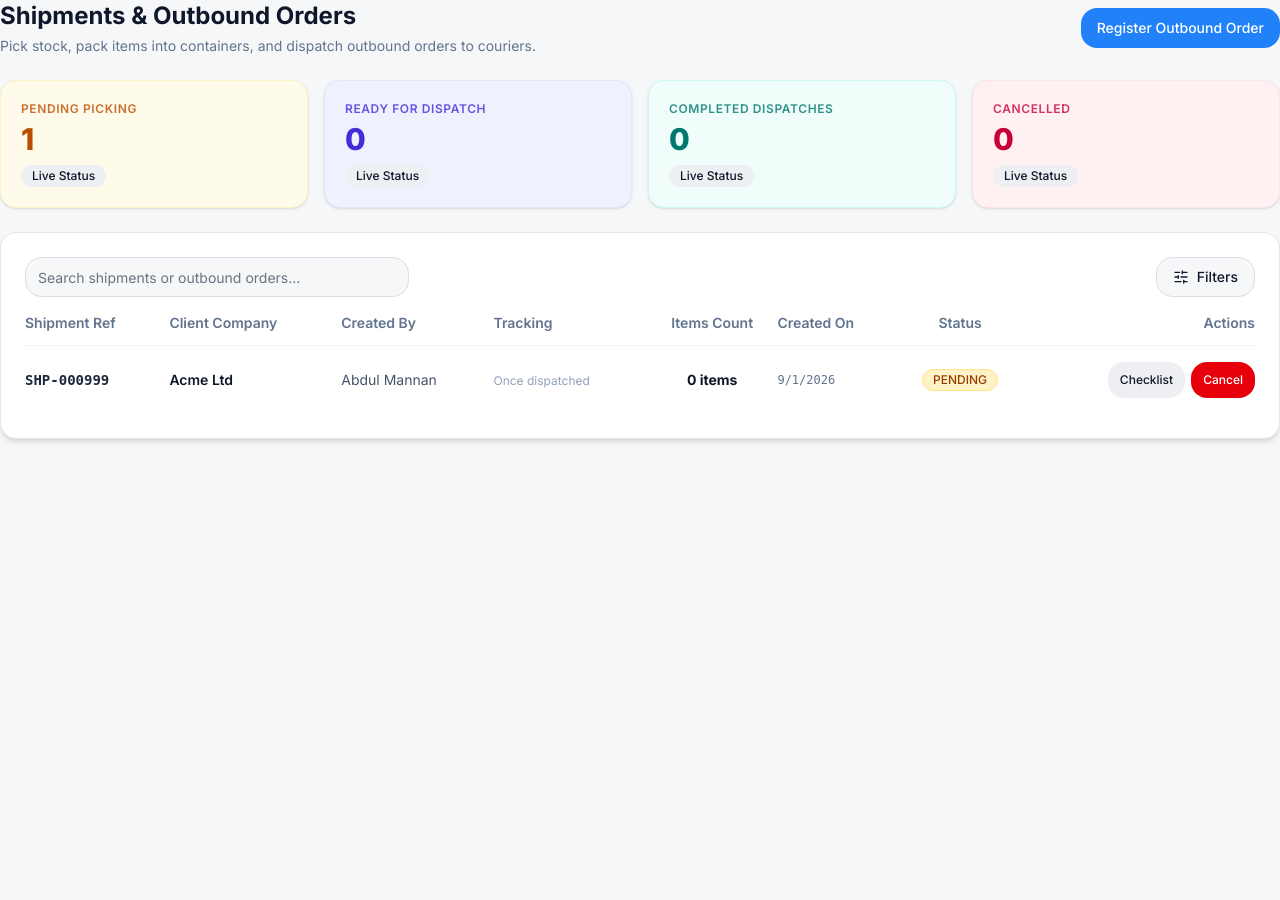
Test: the shipments table › names the label in the cancel confirmation
Click the button "Cancel".
click(1223, 380)  # box [1191,362,1255,398]
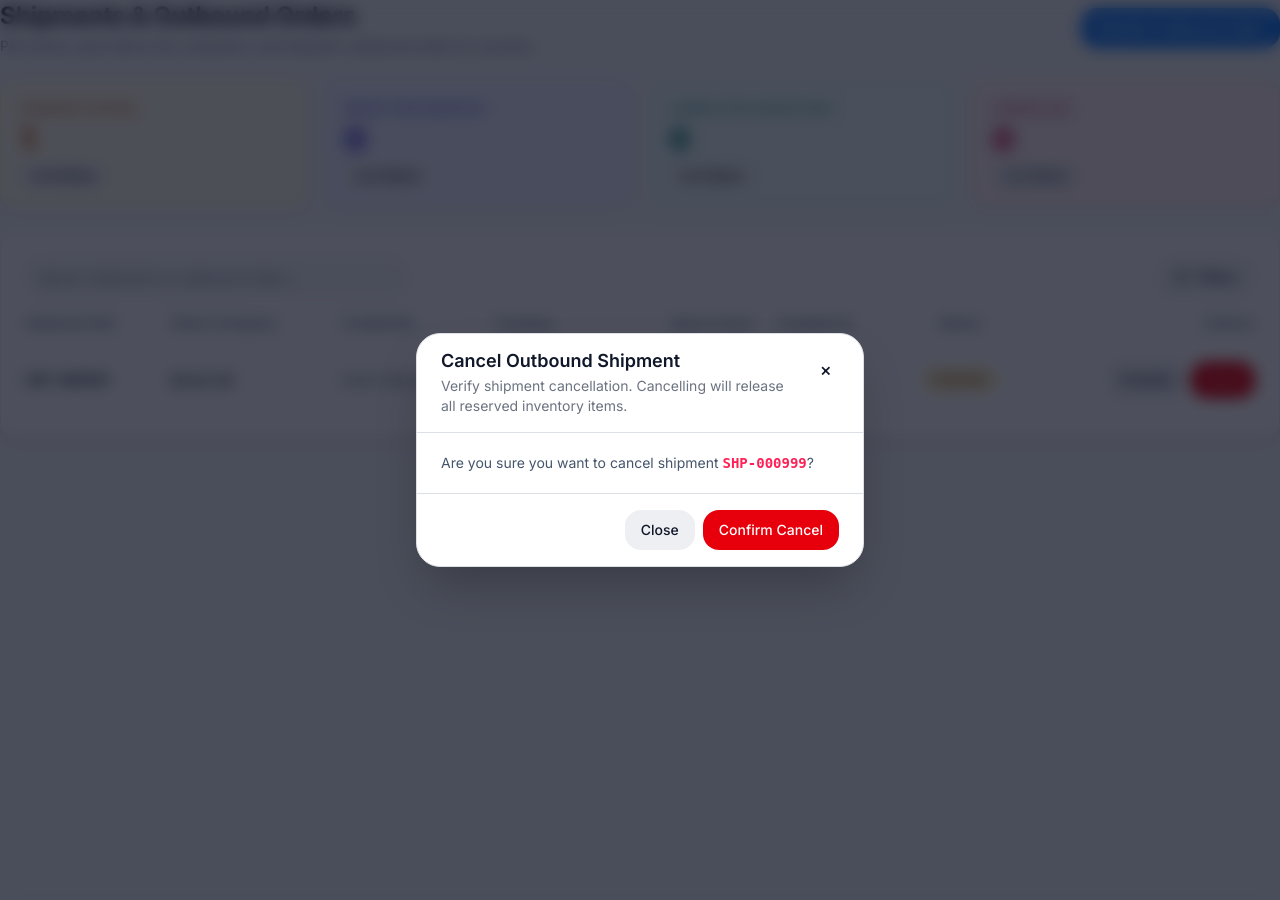
Expected: the text "Are you sure you want to cancel shipment SHP-000999?" is shown, [441,453,839,473]
